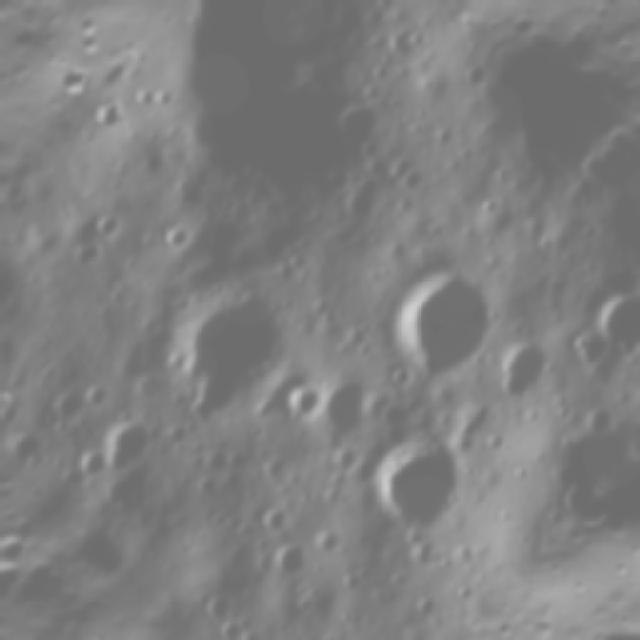crater: (113, 0, 404, 237), (147, 257, 316, 426), (366, 235, 523, 392), (346, 400, 492, 546), (300, 354, 394, 448), (477, 320, 569, 412), (82, 402, 167, 487), (322, 82, 406, 166), (574, 266, 640, 372), (0, 217, 46, 366), (254, 523, 328, 599), (327, 168, 396, 238), (270, 366, 336, 432), (78, 188, 140, 250), (147, 202, 207, 262), (572, 395, 630, 453), (0, 414, 54, 472), (189, 578, 245, 633), (250, 484, 304, 538), (71, 367, 123, 419), (80, 91, 132, 142), (250, 442, 302, 492), (65, 228, 113, 275), (404, 580, 448, 625), (462, 392, 504, 434), (454, 51, 495, 94), (216, 439, 256, 479), (188, 466, 228, 506), (330, 564, 368, 602), (199, 498, 236, 536), (212, 606, 252, 640), (126, 78, 162, 114), (294, 623, 360, 640)
